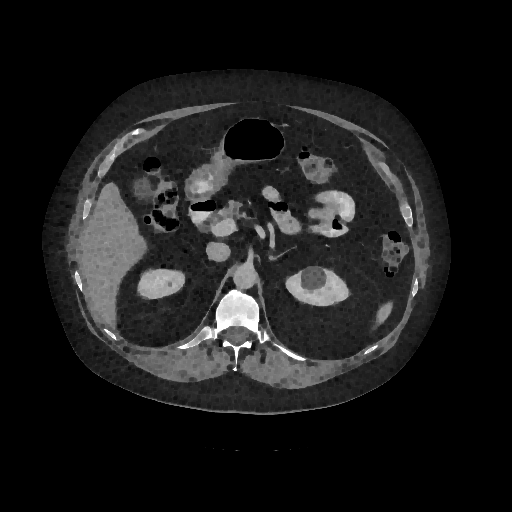Lesion: (297, 263, 327, 292)
